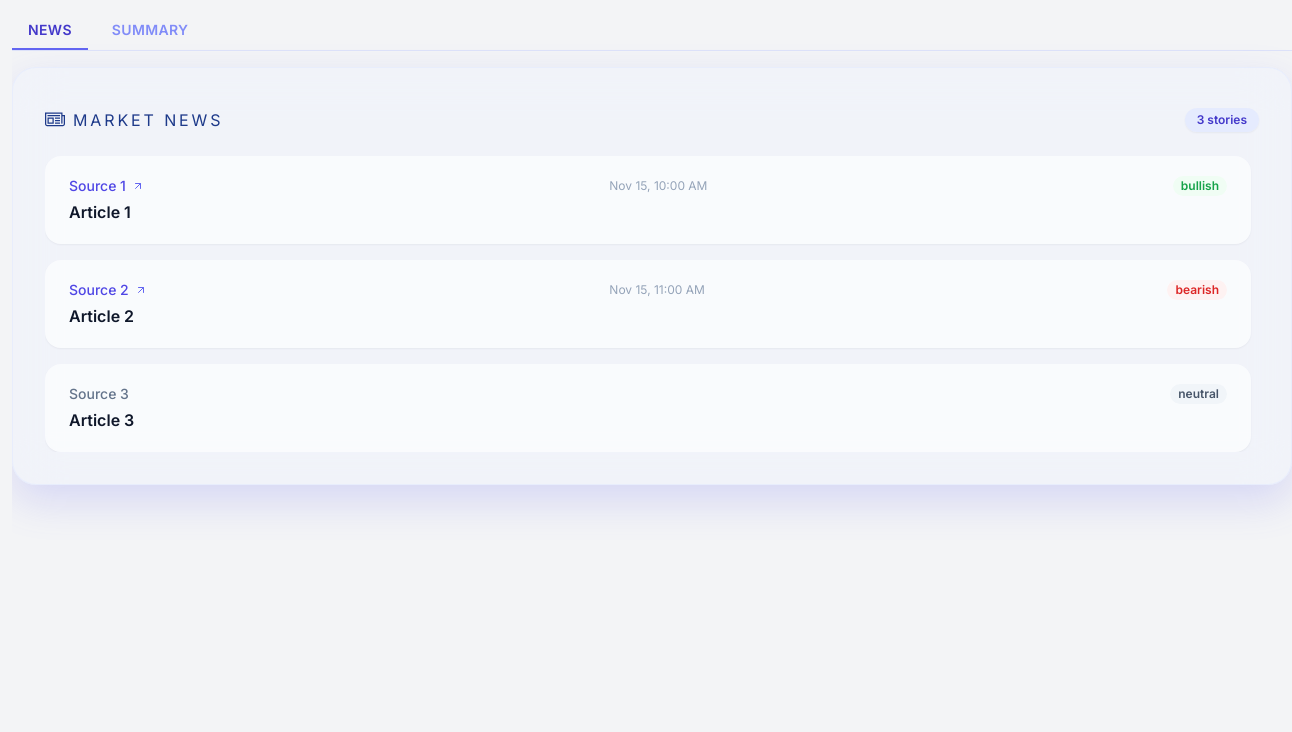
Test case: NewsCard › displays query information
The image size is (1292, 732).
Step 1. Click the button "Summary" → {"x": 150, "y": 31}, box [96,12,204,50]
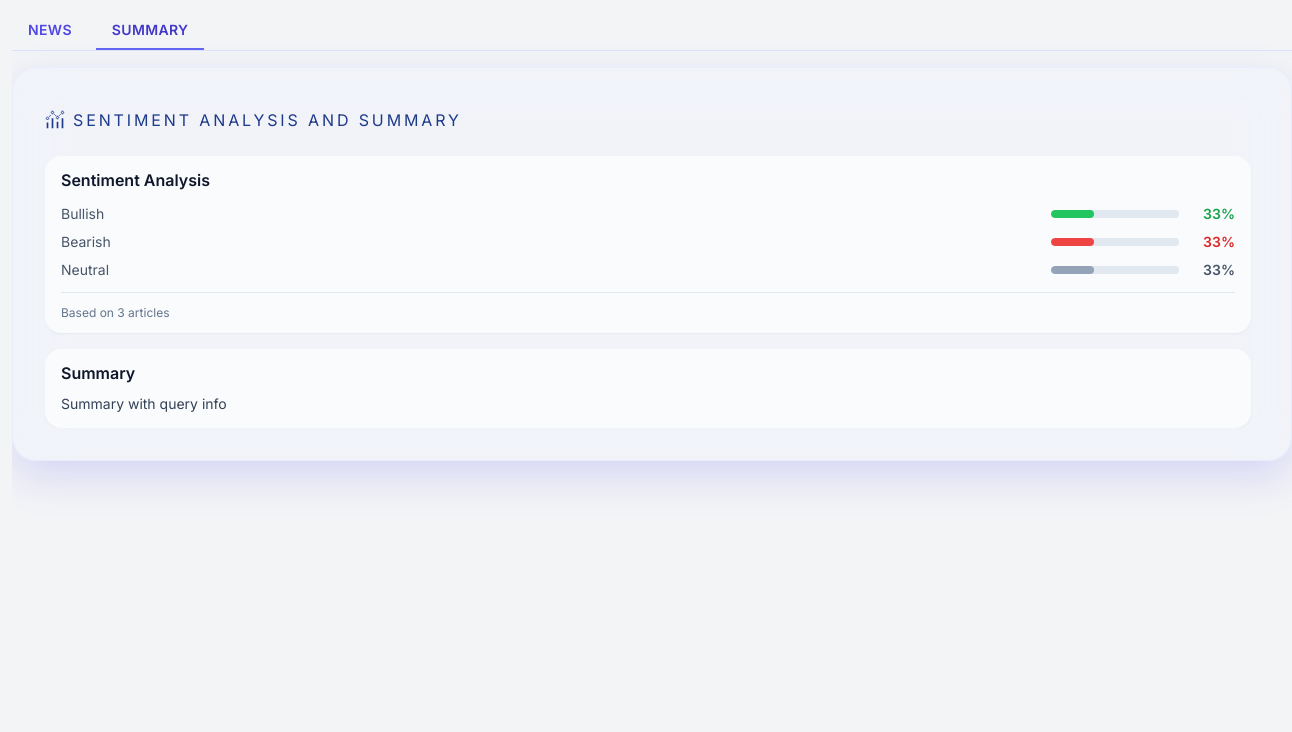
Expected: the text "Summary with query info" is shown, [61,395,227,412]
